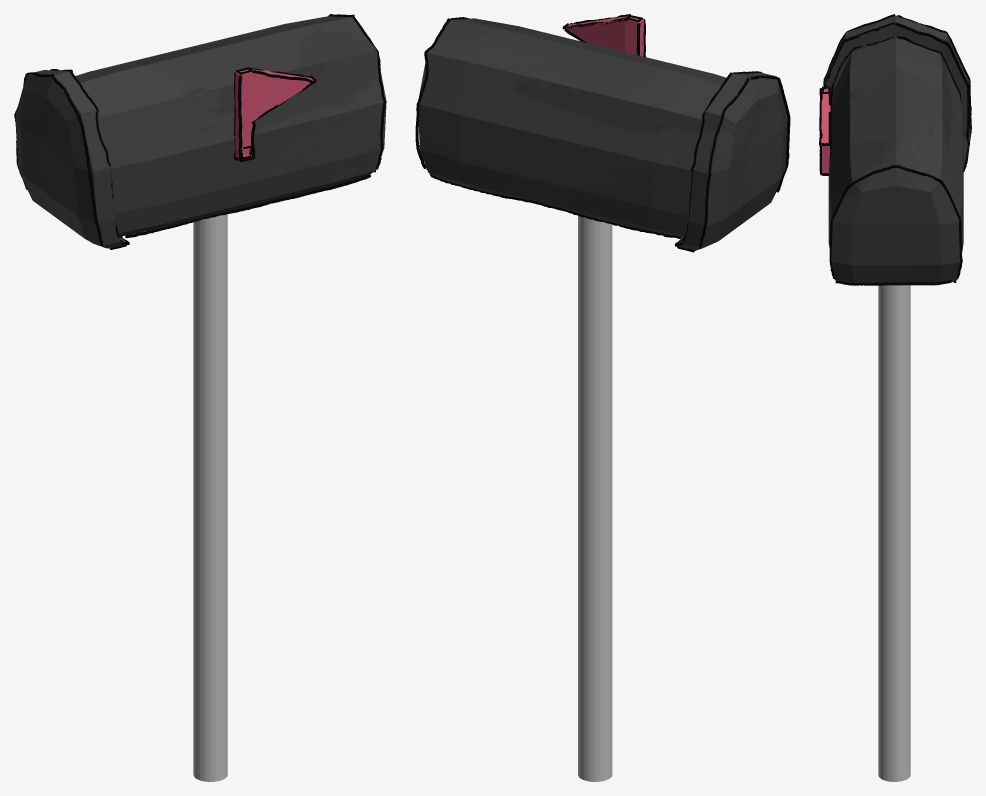
The model's file is mailboxarea.fbx.
3 renders of one model, left to right at view 1: azimuth 30°, elevation 25°; view 2: azimuth 150°, elevation 25°; view 3: azimuth 270°, elevation 25°, orthographic. The views are drawn at different scales.
Visible parts, largest first — view 1: Cube, Cylinder.001, GP_Layer, Cube.001; view 2: Cube, Cylinder.001, GP_Layer, Cube.001; view 3: Cube, Cylinder.001, GP_Layer, Cube.001.
Part boxes in pixels (<box>): Cube: <box>15,16,386,248</box>; Cylinder.001: <box>193,214,227,781</box>; GP_Layer: <box>14,14,386,249</box>; Cube.001: <box>234,69,313,160</box>; Cube: <box>418,18,787,250</box>; Cylinder.001: <box>578,216,612,781</box>; GP_Layer: <box>415,14,790,252</box>; Cube.001: <box>564,16,643,56</box>; Cube: <box>823,15,970,282</box>; Cylinder.001: <box>878,285,910,781</box>; GP_Layer: <box>819,14,971,285</box>; Cube.001: <box>821,88,830,173</box>.
Size of what is drawn, in the model's own units: 35.2 by 79.39 by 15.95.
